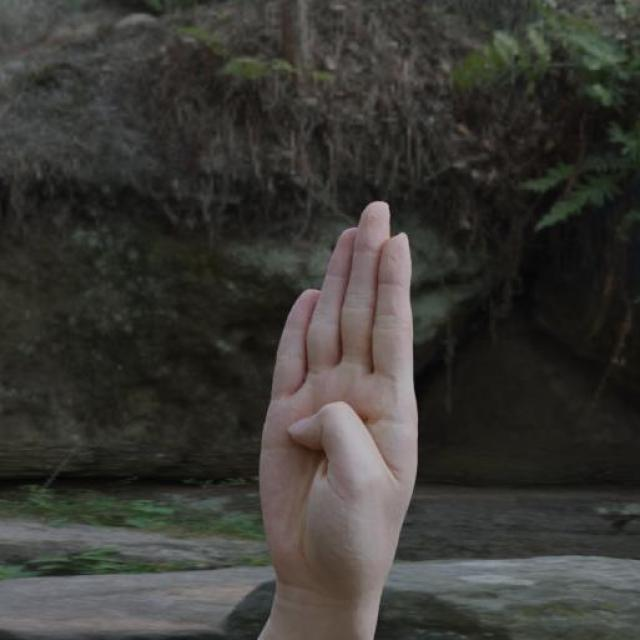B: (250, 198, 422, 600)
